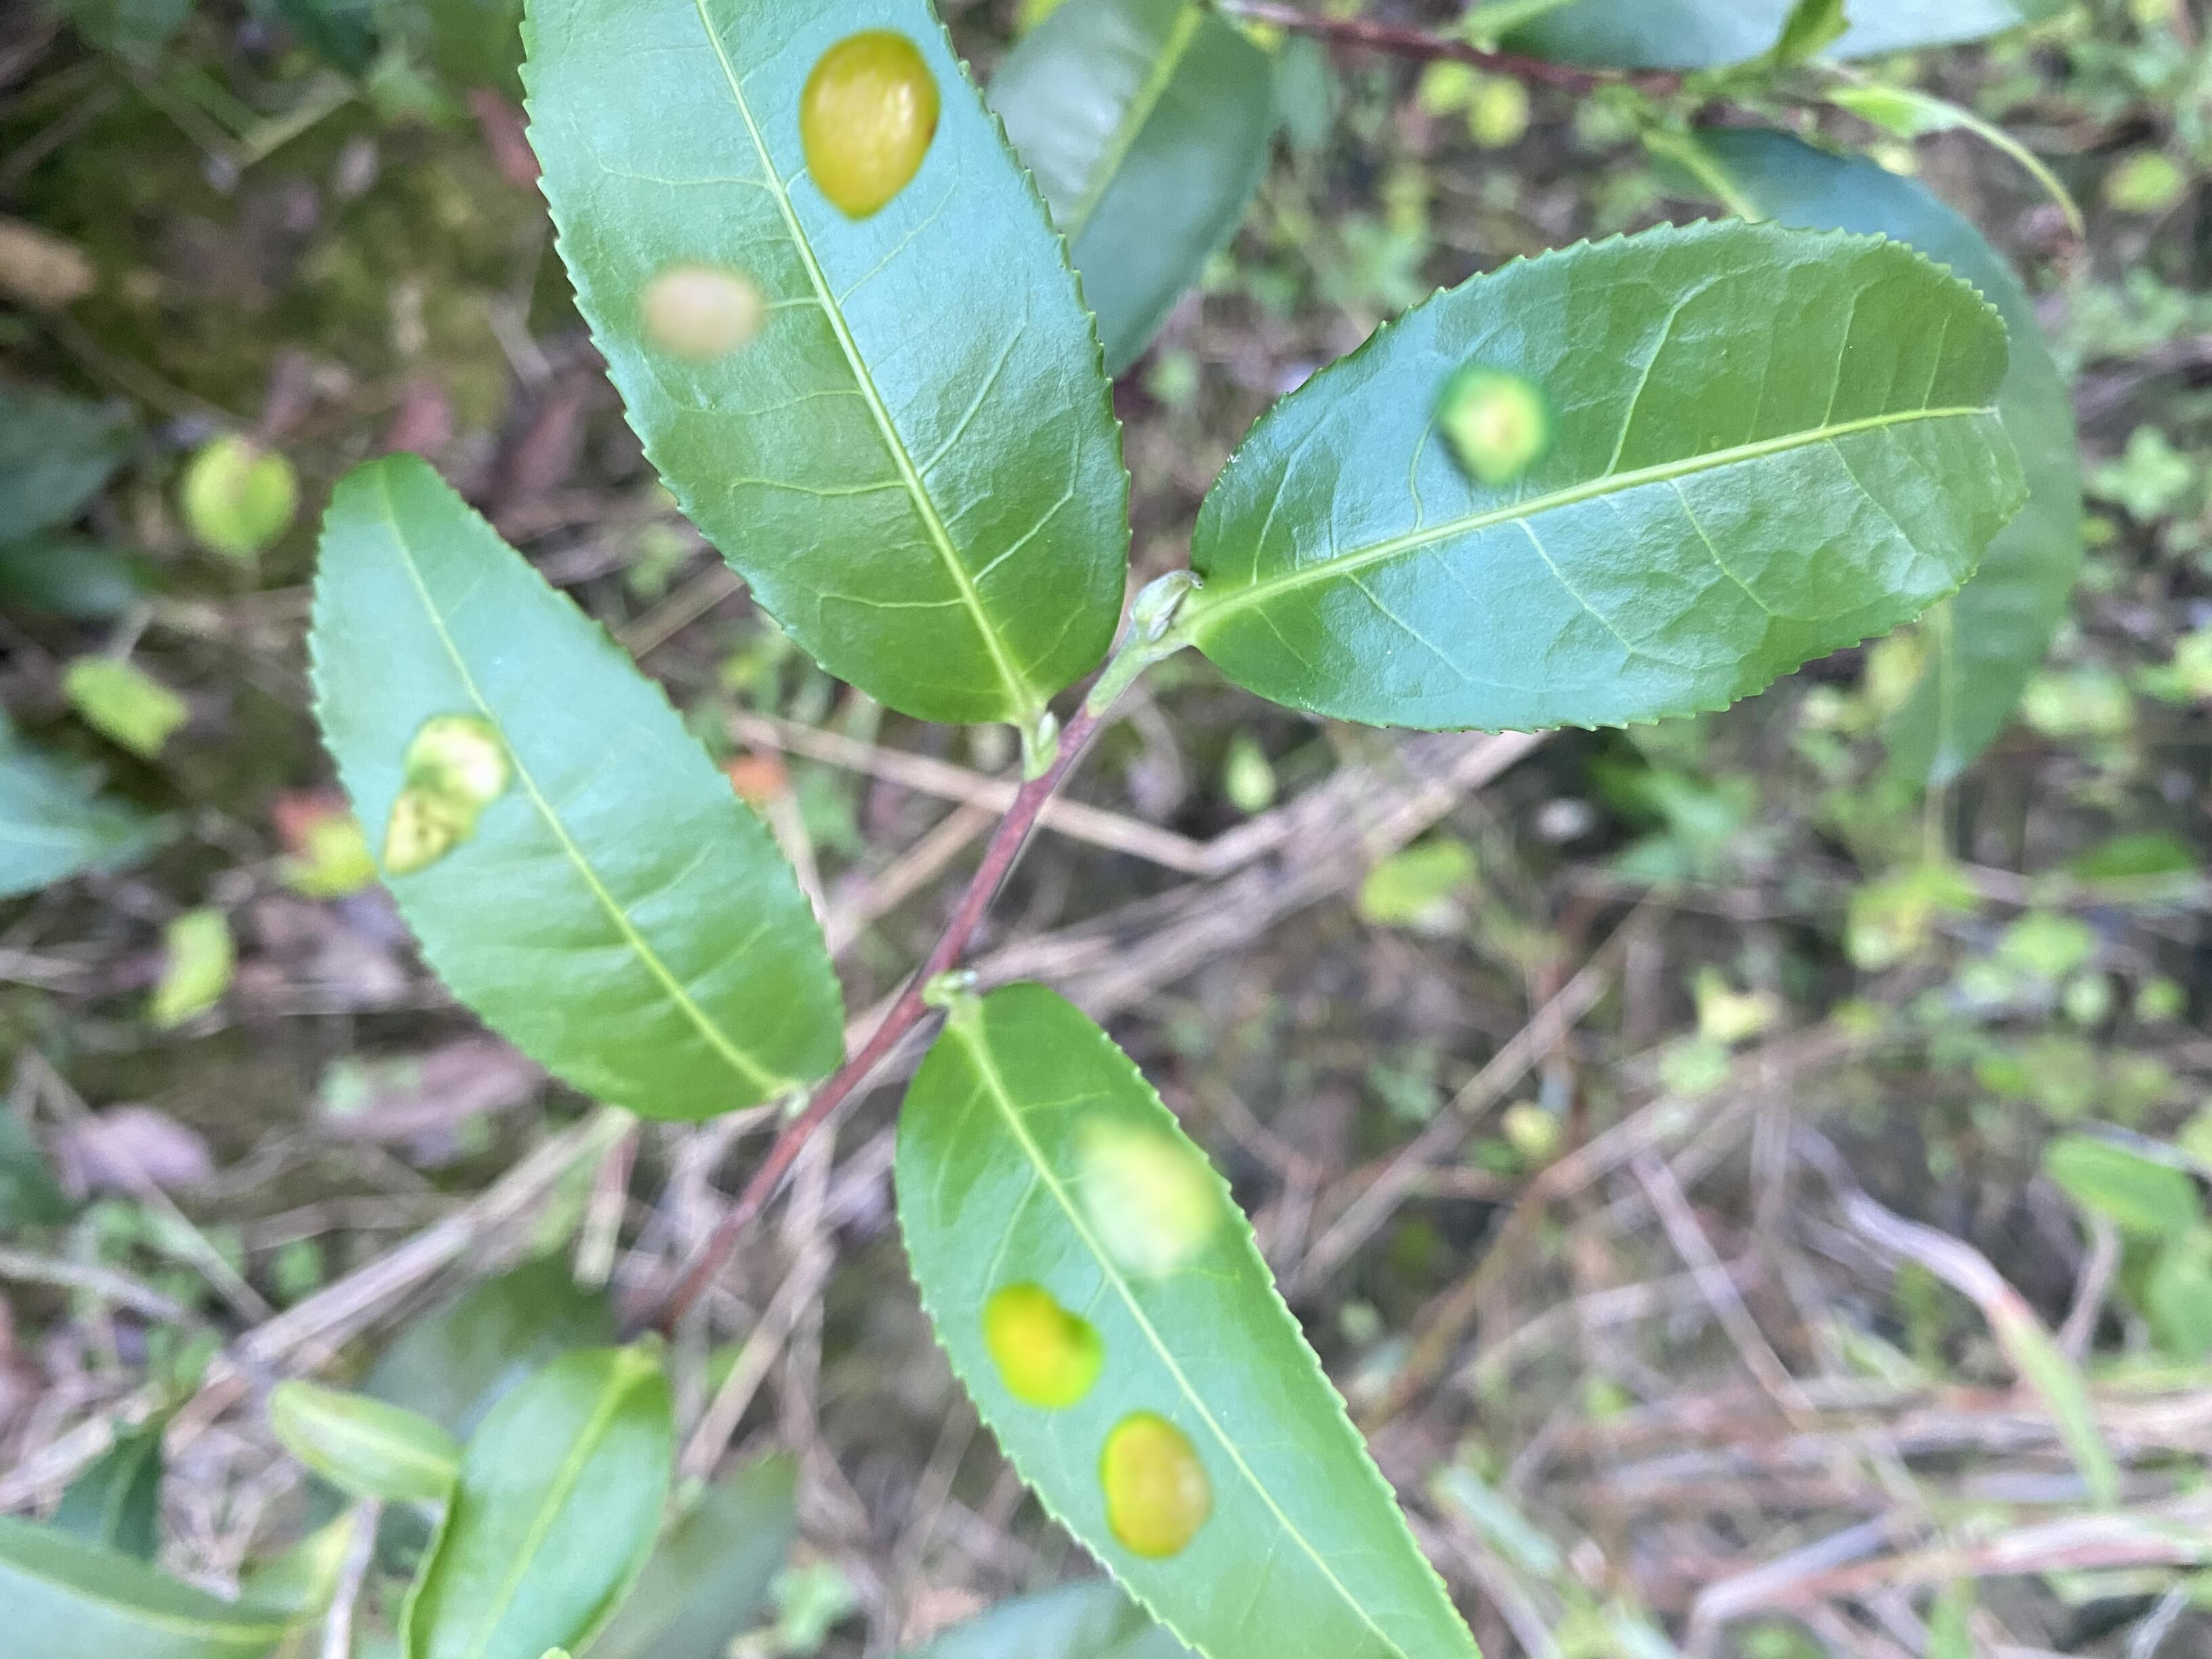chabing_high: (516, 0, 1134, 725), (892, 983, 1484, 1656)
chabing_low: (1193, 213, 2033, 739), (305, 448, 848, 1122)
